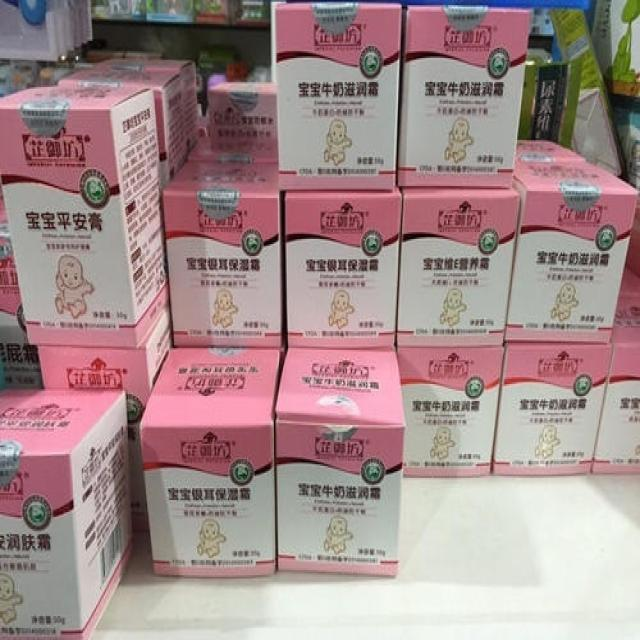Carton: (0, 2, 399, 638), (402, 9, 639, 481)
